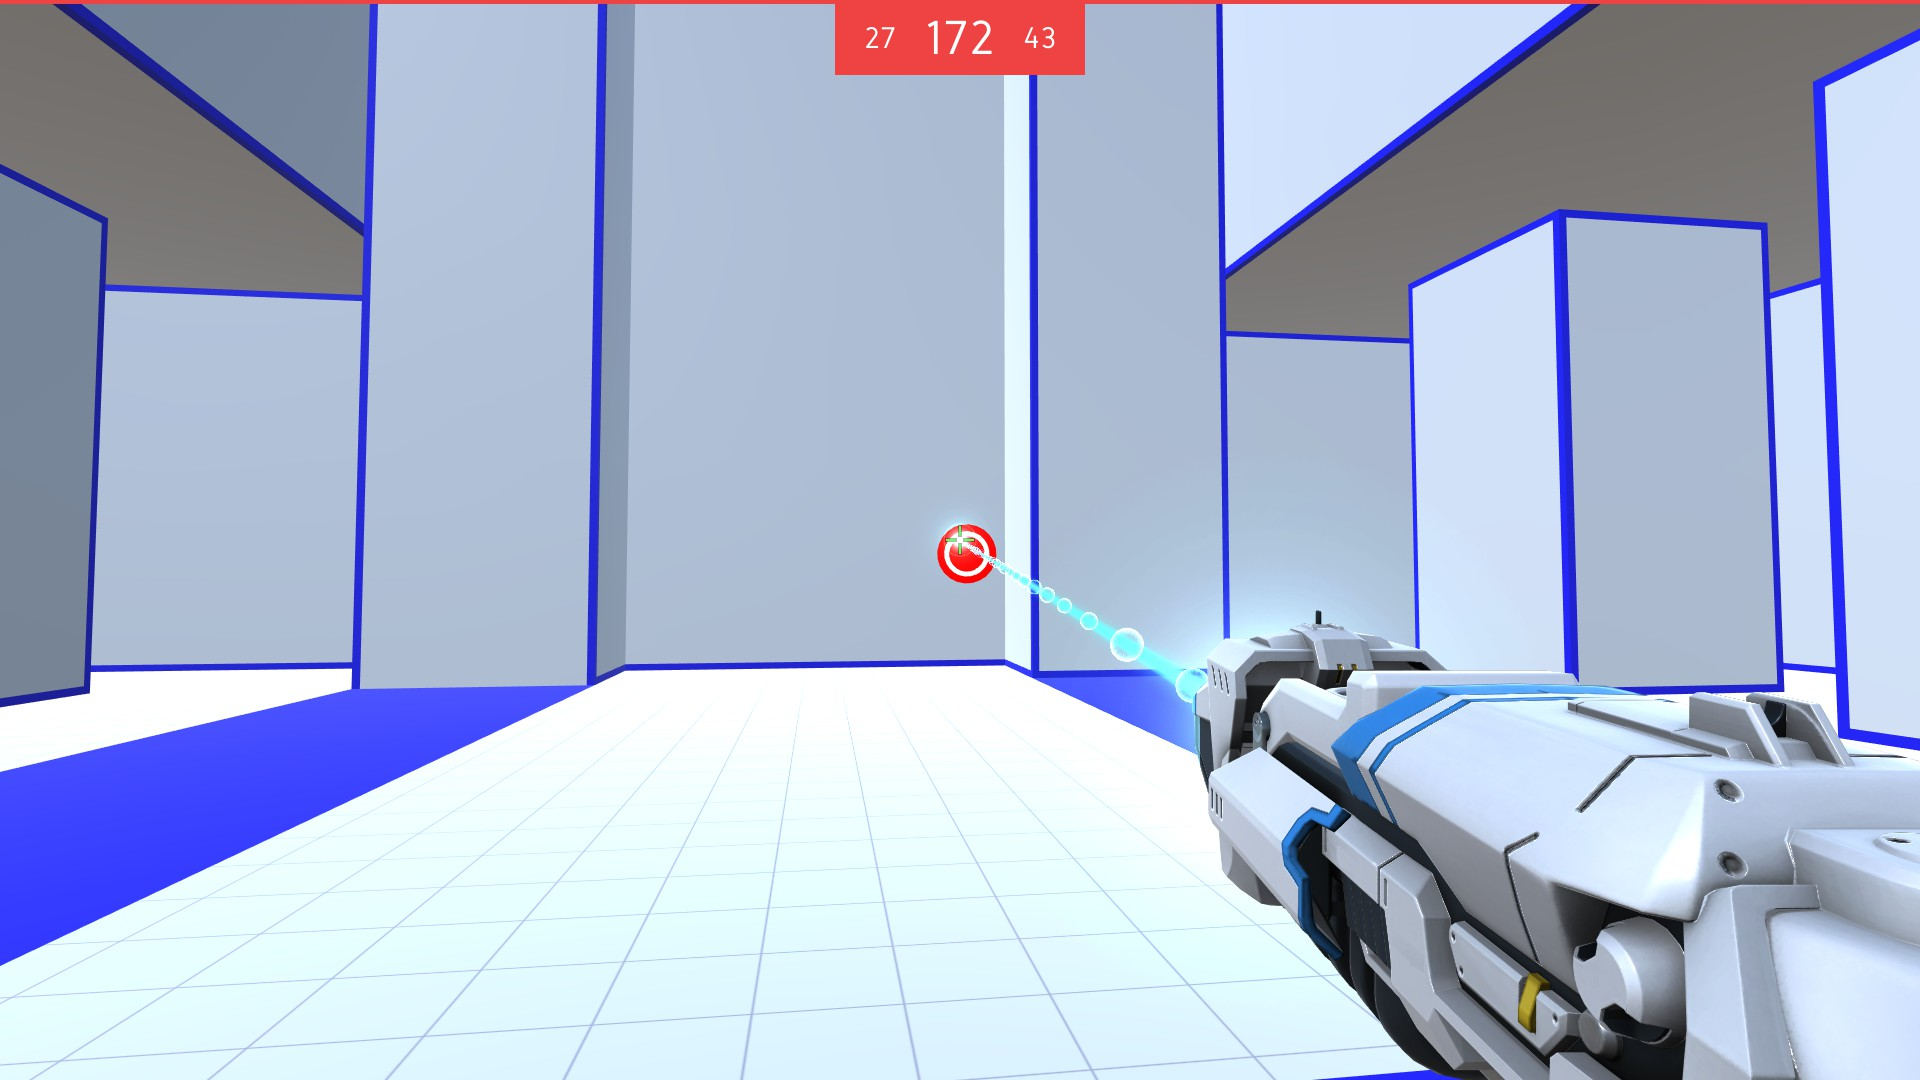target: (936, 524, 1000, 585)
